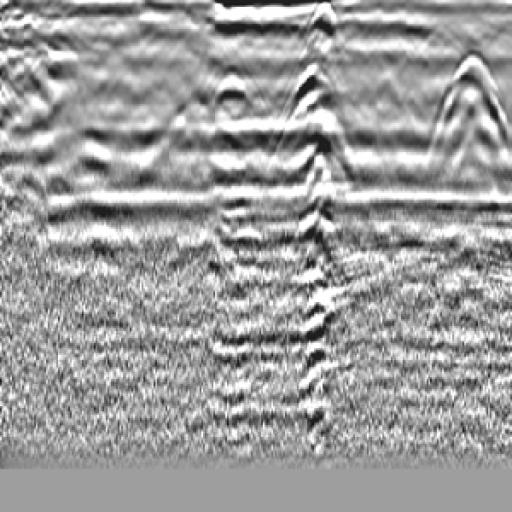metalic: (278, 12, 358, 424)
nonmetalic: (426, 44, 512, 166), (173, 64, 260, 176)
